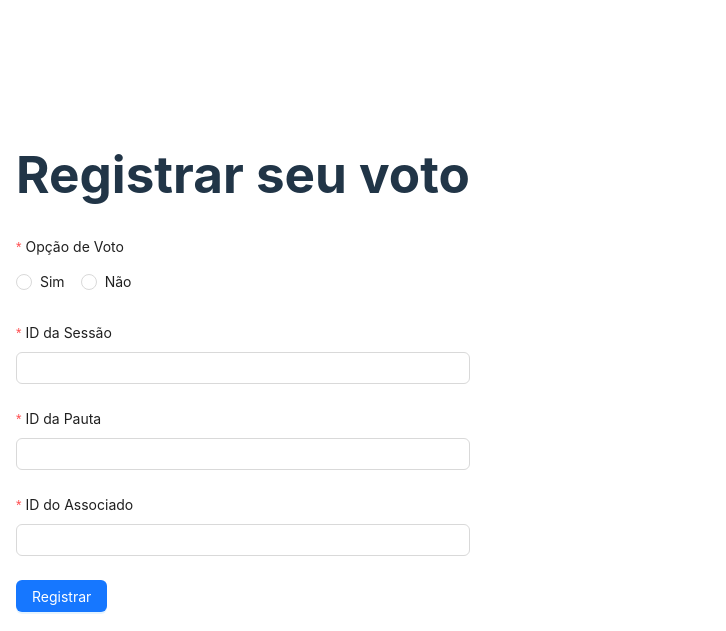
Scenario: CreateFormVoto Component › deve exibir mensagens de erro ao tentar enviar o formulário vazio
The width and height of the screenshot is (726, 631).
Click the button "Registrar": point(62, 596) [16,580,107,612]
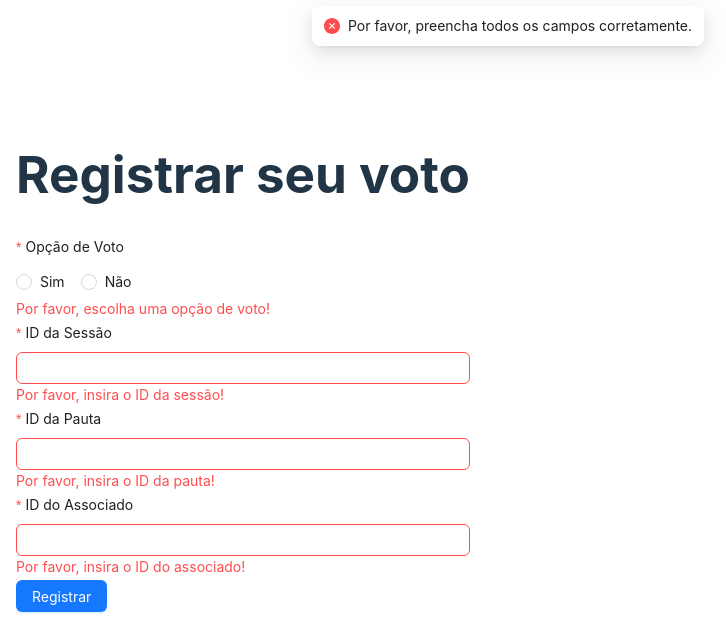
Expected: the text "Por favor, escolha uma opção de voto!" is shown, [16,300,270,318]
Expected: the text "Por favor, insira o ID da sessão!" is shown, [16,386,224,404]
Expected: the text "Por favor, insira o ID da pauta!" is shown, [16,472,215,490]
